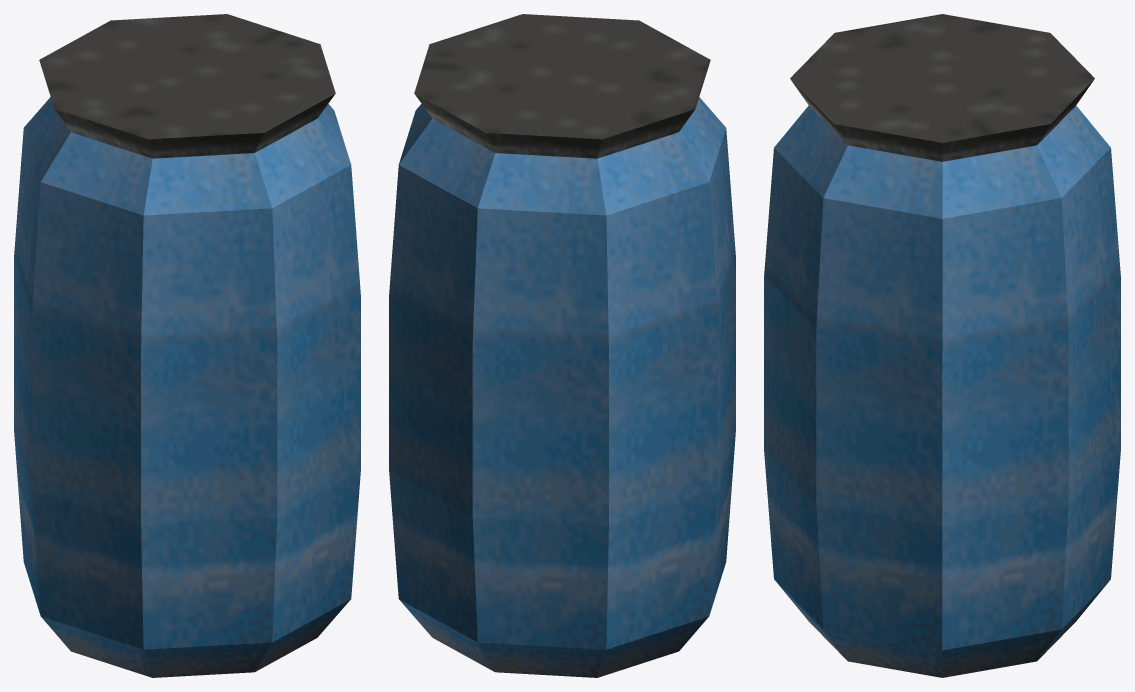
The model's file is barrel_plastic.fbx.
3 views of the same model, side by side, from view 1: azimuth 30°, elevation 25°; view 2: azimuth 150°, elevation 25°; view 3: azimuth 270°, elevation 25° (orthographic).
Parts seen in each view (by area): view 1: BarrelPlastic; view 2: BarrelPlastic; view 3: BarrelPlastic.
Boxes of the visible parts, <box> form: BarrelPlastic: <box>14,14,360,677</box>; BarrelPlastic: <box>389,14,735,677</box>; BarrelPlastic: <box>764,14,1120,677</box>.
Bounding box in the file's own units: 61.4 × 103 × 61.4.
1 material, 1 textured.
